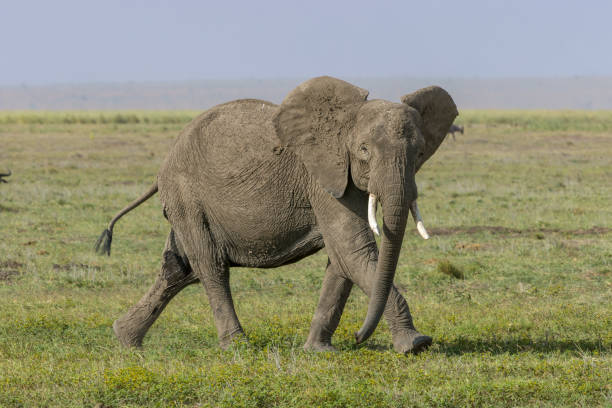africanelephant: (303, 92, 437, 245)
